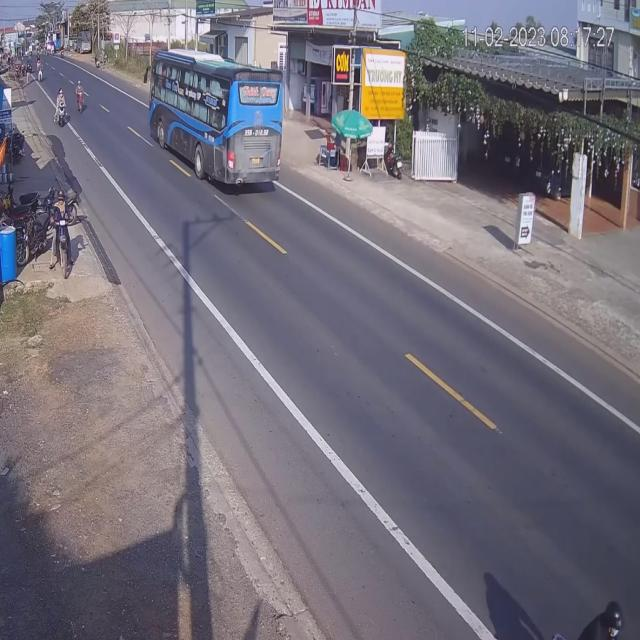bus: (150, 46, 286, 188)
motorbike: (56, 88, 68, 129), (75, 81, 86, 113)
